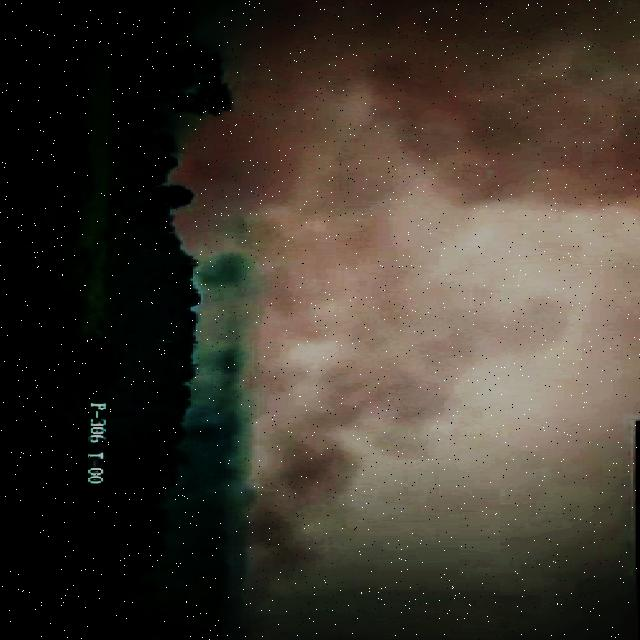asap: (106, 1, 640, 281), (139, 222, 621, 447), (111, 449, 383, 640)
